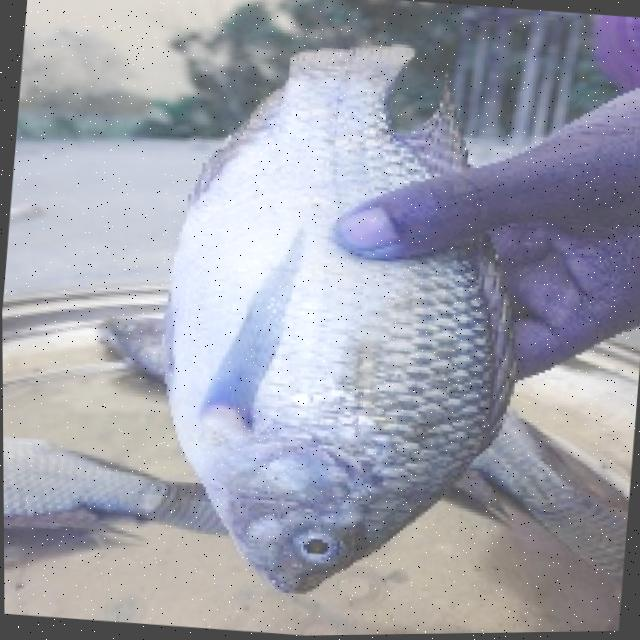Fresh: (274, 505, 353, 582)
